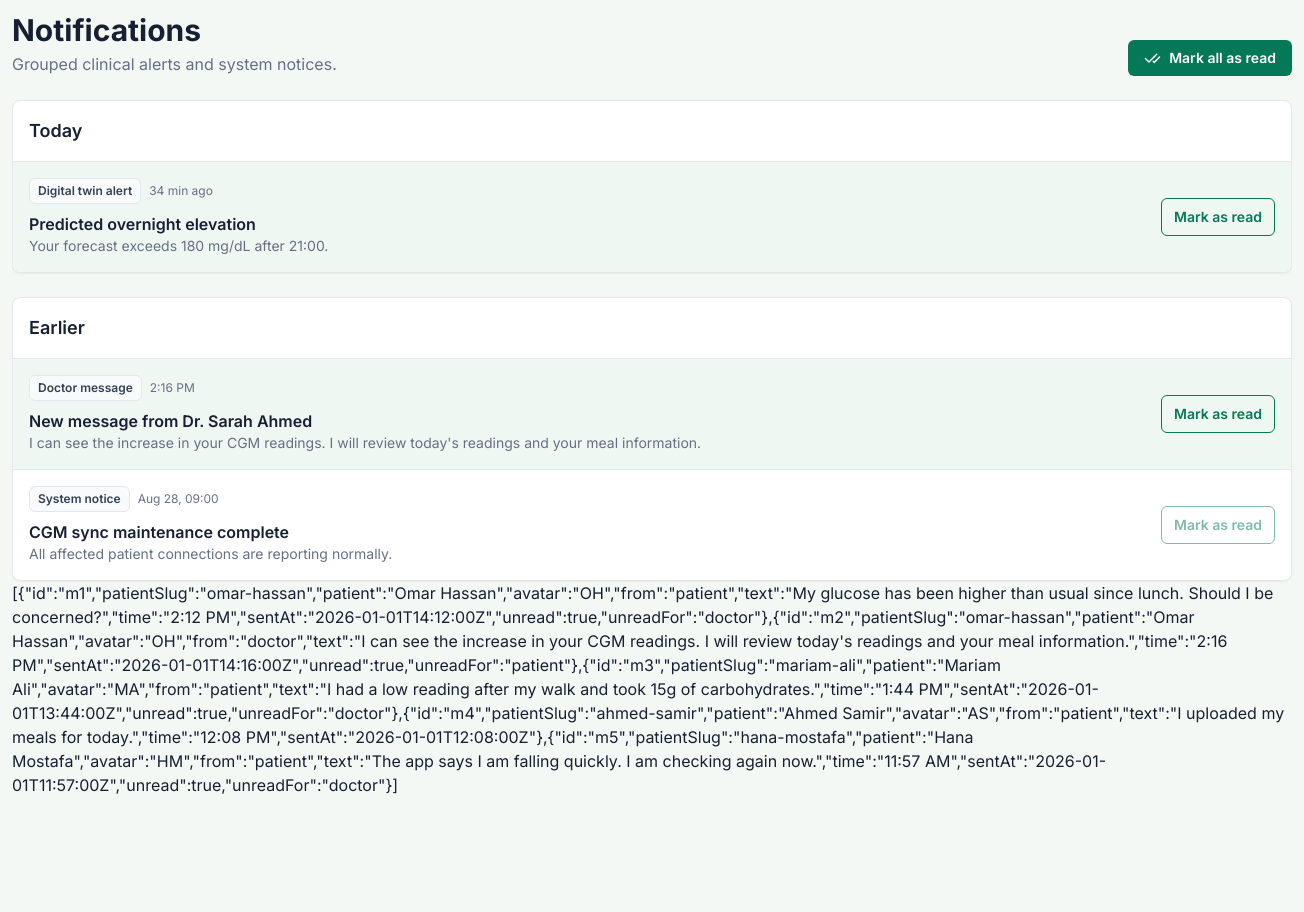
Test: Omar sees doctor replies, his patient alerts, and system notices but not his own patient-message notification
The image size is (1304, 912).
Expected: the heading "New message from Dr. Sarah Ahmed" is shown, [29,411,312,431]
Expected: the heading "Predicted overnight elevation" is shown, [29,214,256,234]
Click the button "Mark as read" in the row of "New message from Dr. Sarah Ahmed".
click(1218, 414)  # box [1161,395,1275,433]
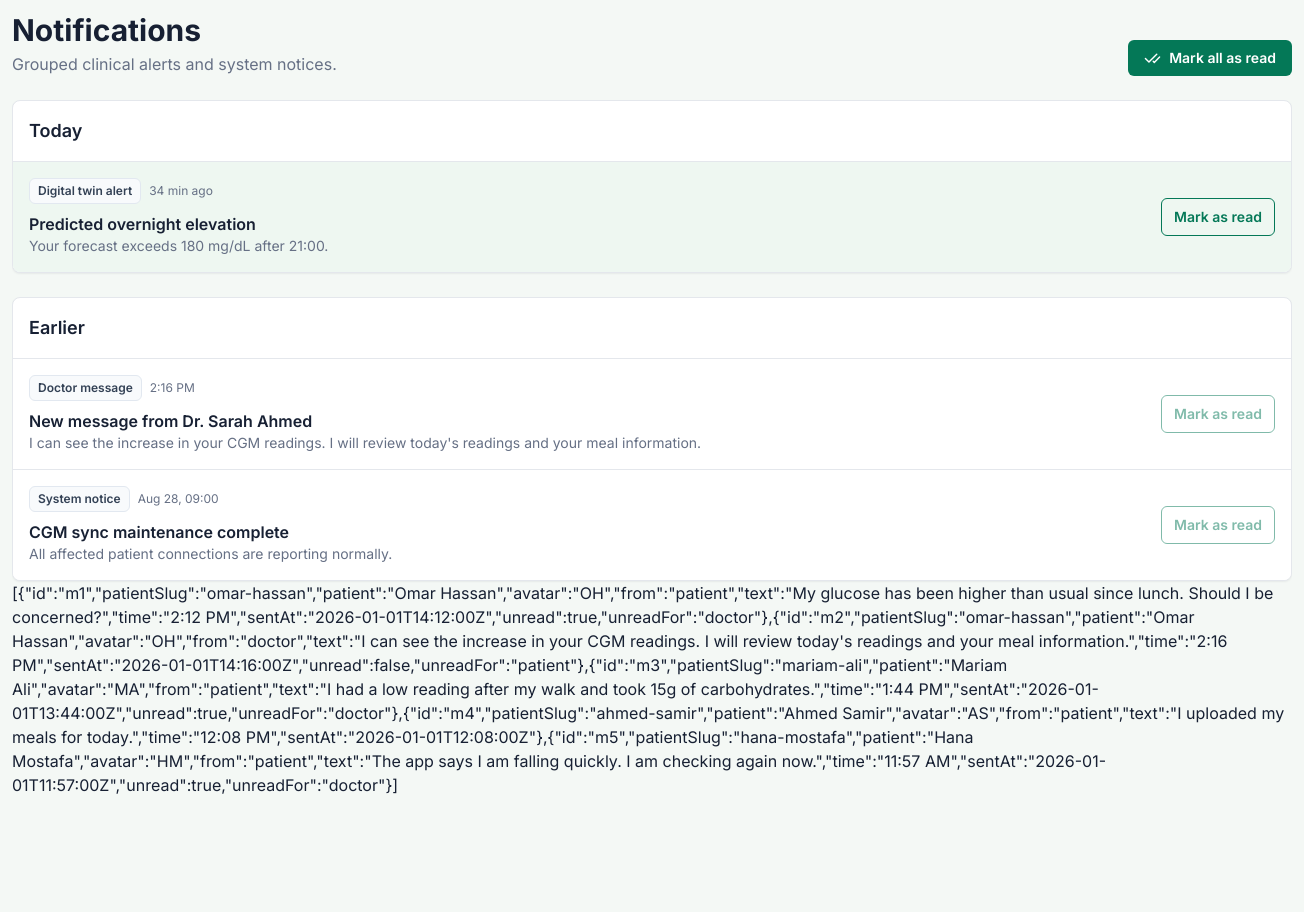
Expected: the text "New message from Dr. Sarah Ahmed" has class "bg-white", [13,359,1291,469]
Click the button "Mark all as read".
click(1210, 58)  # box [1128,40,1292,76]
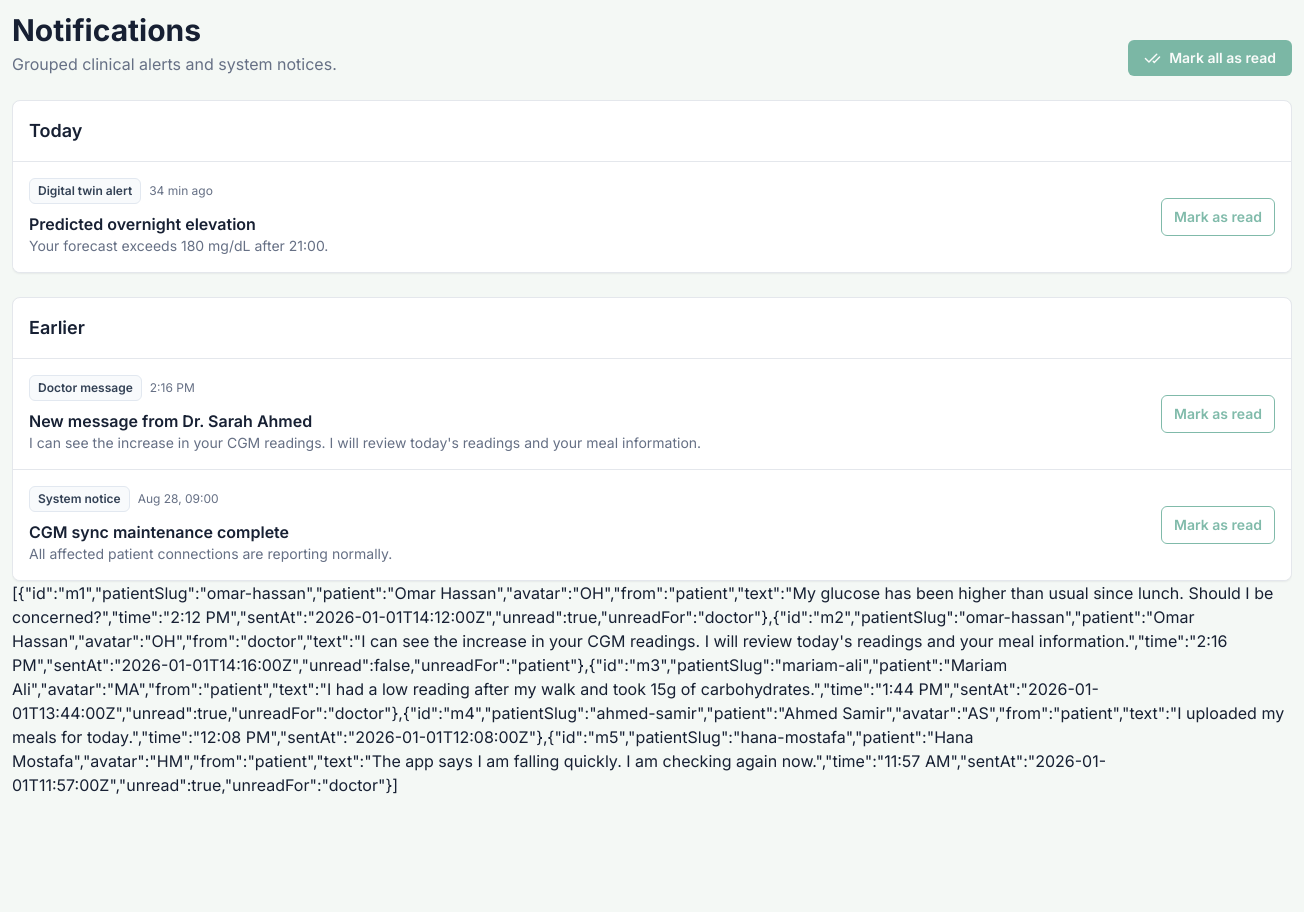
Expected: the button "Mark all as read" is disabled, [1128,40,1292,76]
